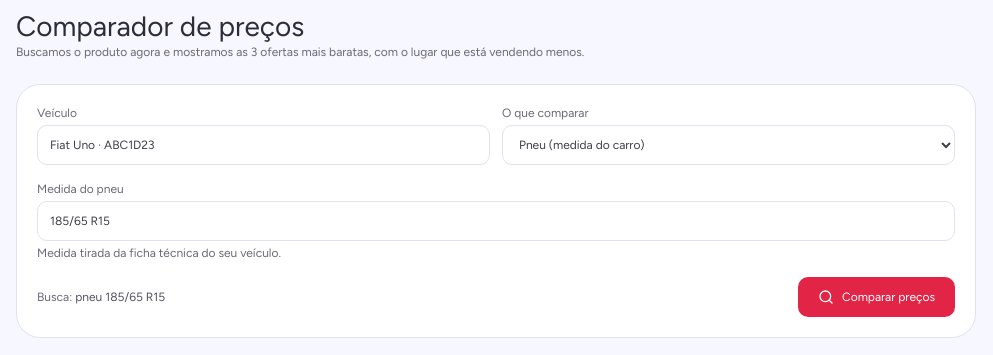
Test: Comparador: medida do pneu › ao trocar de veículo sem medida salva, o campo não guarda a do anterior
This screenshot has width=993, height=355.
Expected: the field labelled "Medida do pneu" holds "185/65 R15", [37,201,955,241]
Click the dropdown named "Veículo".
click(264, 145)  # box [37,125,490,165]
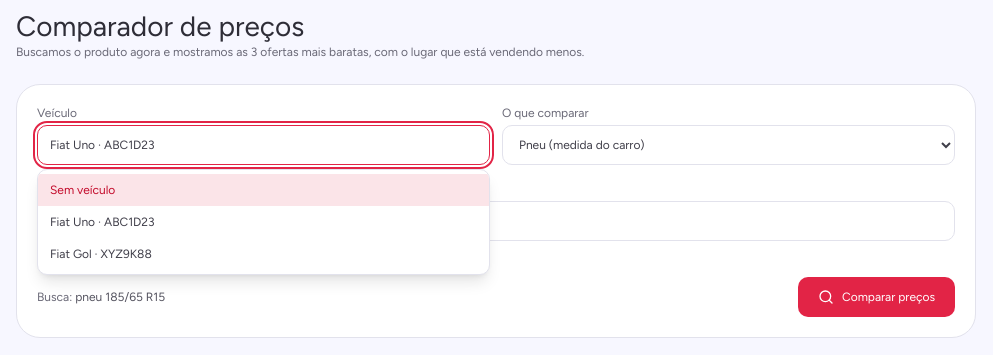
Click the option "Fiat Gol · XYZ9K88".
click(101, 254)  # box [50,247,152,261]
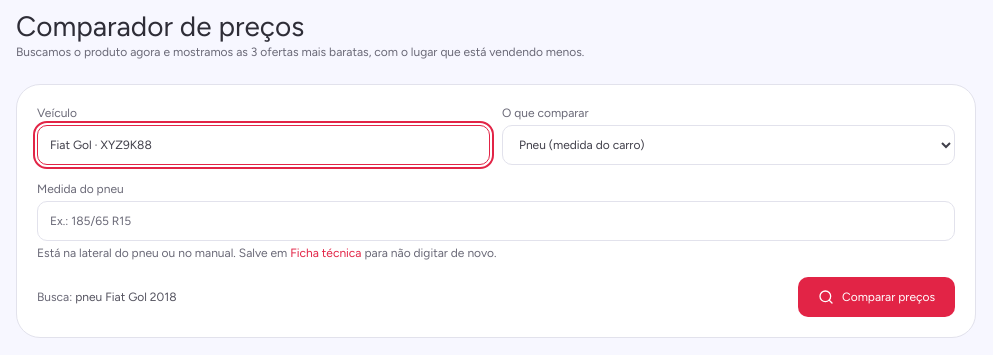
Now the field labelled "Medida do pneu" is empty, box [37,201,955,241]
Now the text "tirada da ficha técnica" is gone
